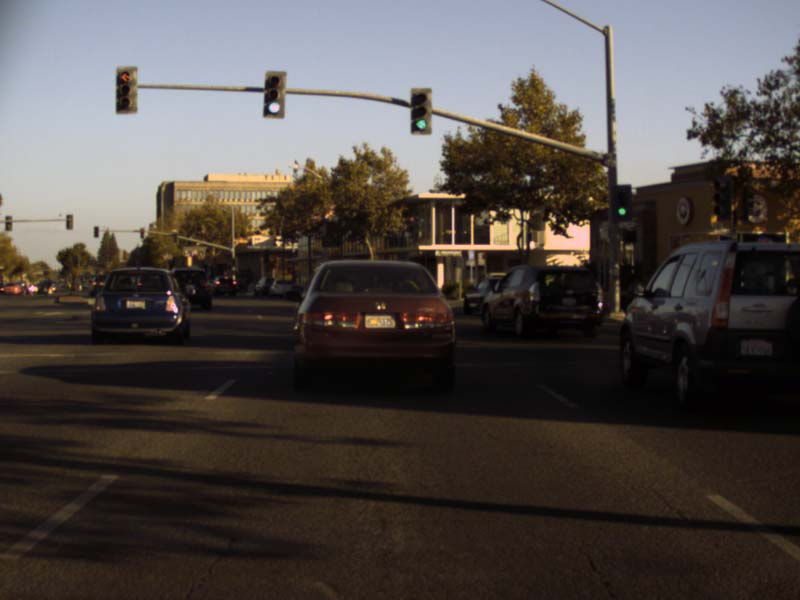Green: (410, 88, 431, 134), (265, 71, 283, 115), (613, 187, 632, 220)
Red: (116, 68, 136, 110)
